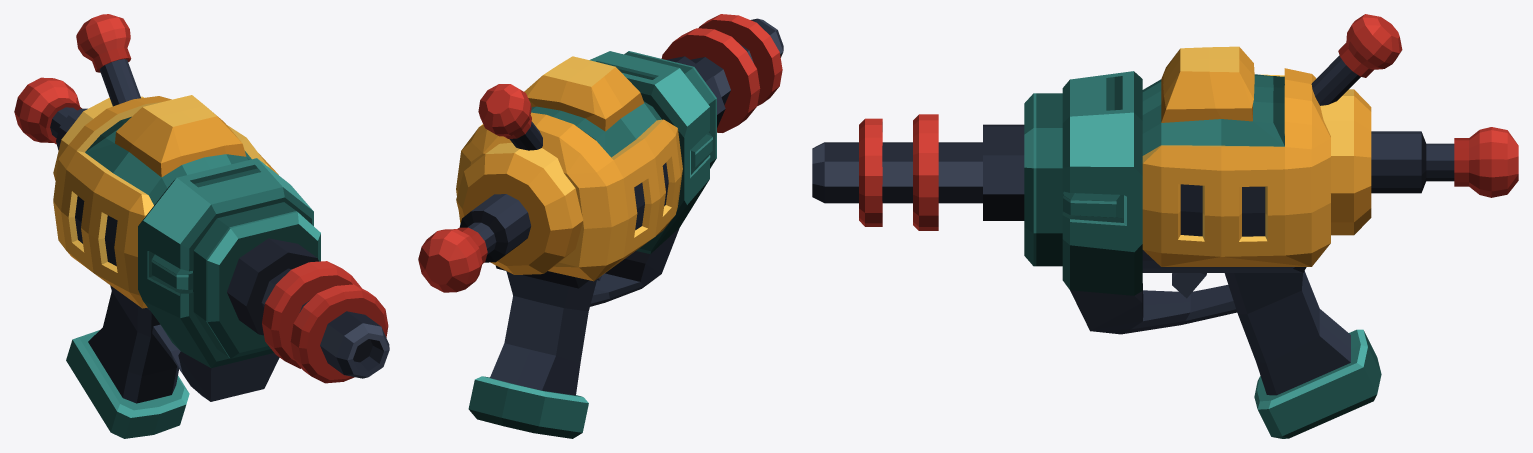
Rendered from Cosmic_Retro_Blaster_11.fbx.
3 views of the same model, side by side, from view 1: azimuth 30°, elevation 25°; view 2: azimuth 150°, elevation 25°; view 3: azimuth 270°, elevation 25° (orthographic). The views are drawn at different scales.
Parts seen in each view (by area): view 1: Cosmic_Retro_Blaster_11; view 2: Cosmic_Retro_Blaster_11; view 3: Cosmic_Retro_Blaster_11.
Part boxes in pixels (x1=…): Cosmic_Retro_Blaster_11: x1=14, y1=14, x2=389, y2=438; Cosmic_Retro_Blaster_11: x1=418, y1=14, x2=783, y2=438; Cosmic_Retro_Blaster_11: x1=812, y1=14, x2=1518, y2=438.
Size of the model in its own units: 0.1281 by 0.2715 by 0.4236.
